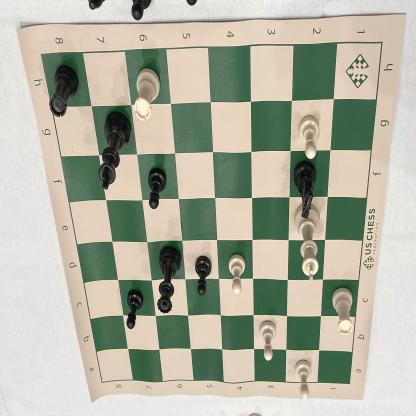black-king: (97, 108, 135, 193)
black-knight: (290, 160, 320, 220)
black-pawn: (145, 162, 168, 212), (124, 286, 144, 334), (194, 253, 214, 298)
black-queen: (157, 245, 182, 318)
black-rook: (48, 62, 79, 121), (133, 67, 163, 124)
white-king: (293, 203, 323, 287)
white-pawn: (298, 114, 322, 160), (226, 250, 247, 297), (258, 319, 279, 364), (294, 358, 314, 401)
white-rook: (329, 288, 356, 336)
